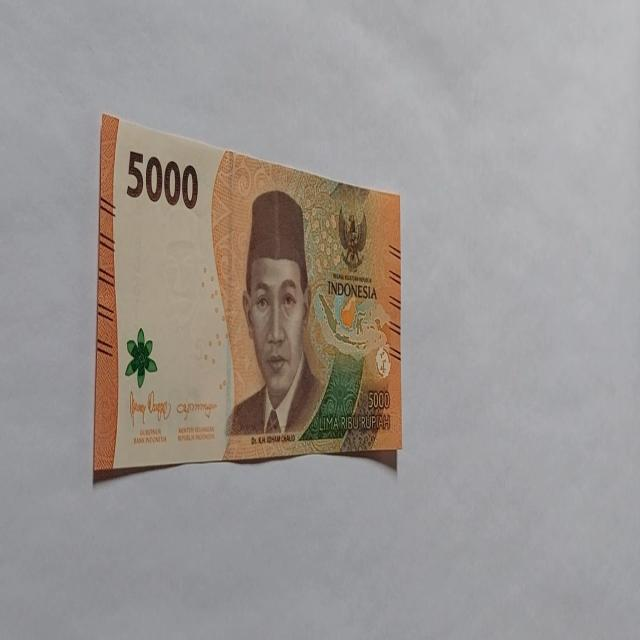lima ribu rupiah: (92, 111, 402, 482), (223, 188, 327, 444)
